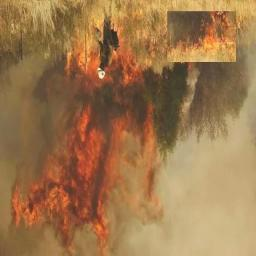Heavy smoke: (2, 50, 256, 256)
Large fire: (27, 23, 174, 256)
